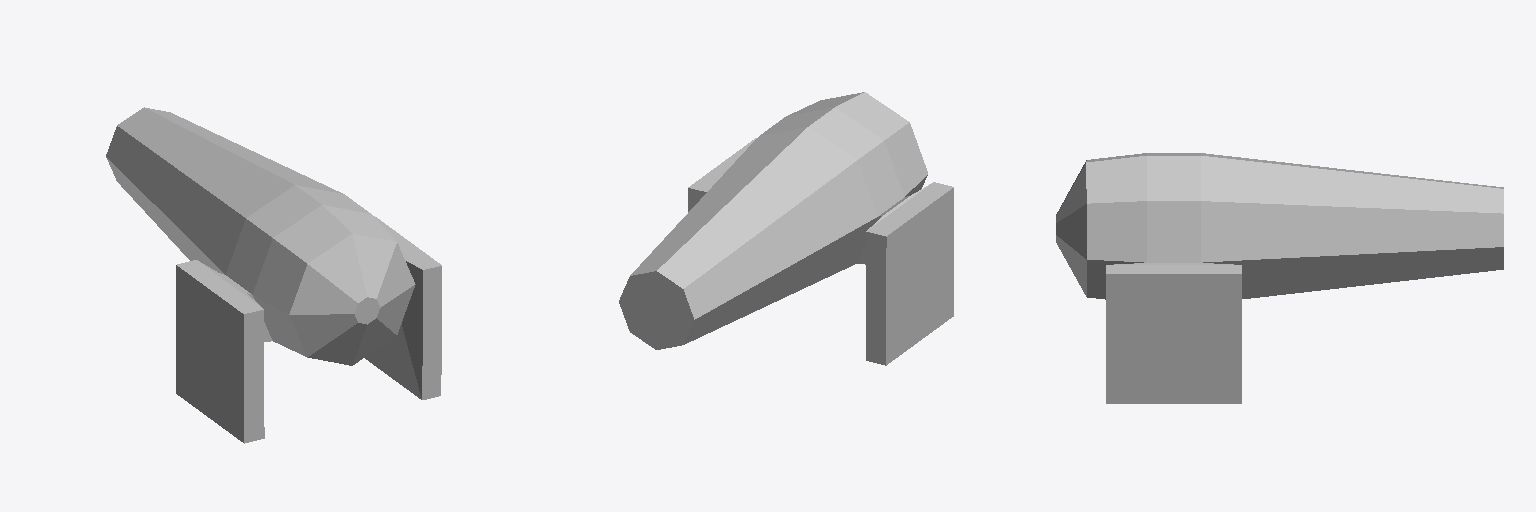
The model's file is tempCannonModel.obj.
3 renders of one model, left to right at view 1: azimuth 30°, elevation 25°; view 2: azimuth 150°, elevation 25°; view 3: azimuth 270°, elevation 25°, orthographic.
Parts seen in each view (by area): view 1: obj.cannon.000_cannon; view 2: obj.cannon.000_cannon; view 3: obj.cannon.000_cannon.
Part boxes in pixels (left/top/right/bottom): obj.cannon.000_cannon: left=106, top=107, right=441, bottom=443; obj.cannon.000_cannon: left=619, top=92, right=953, bottom=365; obj.cannon.000_cannon: left=1056, top=153, right=1503, bottom=403.
Bounding box in the file's own units: 0.3135 × 0.3023 × 0.6118.